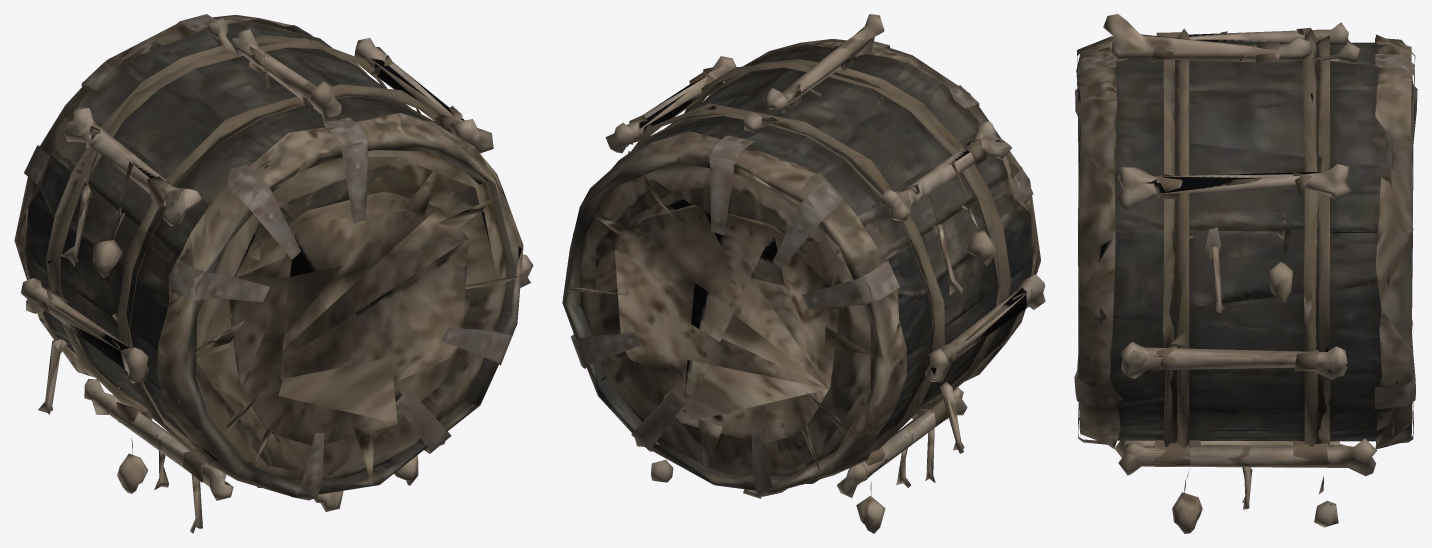
The model's file is KolossTambor.glb.
3 renders of one model, left to right at view 1: azimuth 30°, elevation 25°; view 2: azimuth 150°, elevation 25°; view 3: azimuth 270°, elevation 25°, orthographic. The views are drawn at different scales.
Parts seen in each view (by area): view 1: KolossTambor; view 2: KolossTambor; view 3: KolossTambor.
Part boxes in pixels (left/top/right/bottom): KolossTambor: left=14, top=14, right=533, bottom=533; KolossTambor: left=562, top=14, right=1045, bottom=533; KolossTambor: left=1074, top=14, right=1417, bottom=533.
Size of the model in its own units: 1.58 by 1.7 by 1.15.
1 material, 1 textured.
